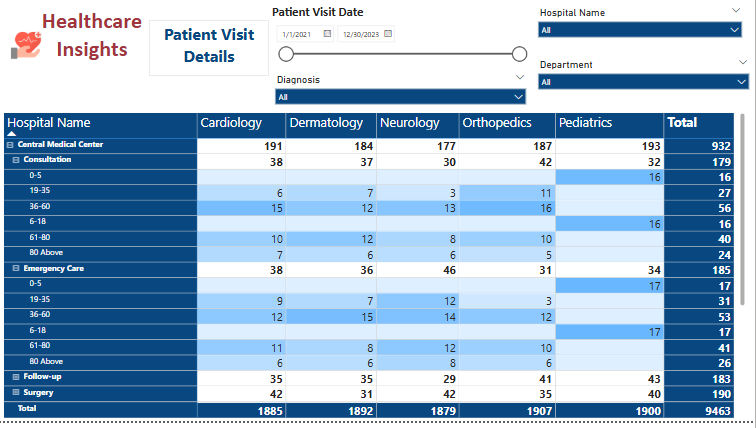

What the dashboard file says about the page in this screenshot:
{"tool":"powerbi","page":{"name":"Detail Report","canvas":[1280,720],"ordinal":2},"visuals":[{"type":"textbox","box":[70.6,20.2,191.5,136.1],"z":0},{"type":"image","box":[0,37,112.5,104.1],"z":1000},{"type":"textbox","box":[262.6,46.3,200.8,94.6],"z":2000},{"type":"slicer","fields":{"Values":["Healthcare data.department"]},"box":[905.4,105.8,374.6,85.7],"z":3000},{"type":"slicer","fields":{"Values":["Healthcare data.Hospital Name"]},"box":[905.5,19.3,363,86.9],"z":4000},{"type":"pivotTable","fields":{"Rows":["Healthcare data.Hospital Name","Healthcare data.service_provided","Healthcare data.Age group"],"Values":["CountNonNull(Healthcare data.patient_id)"],"Columns":["Healthcare data.department"]},"box":[13.4,198.2,1254.8,522.4],"z":5000},{"type":"slicer","fields":{"Values":["Healthcare data.Diagnosis Name"]},"box":[463.6,131,441.8,67.2],"z":6000},{"type":"slicer","title":"Patient Visit Date","fields":{"Values":["Healthcare data.Patient Visit Date"]},"box":[463.6,20.2,441.8,110.9],"z":7000}]}

Visuals, with their boxes in screenshot pixels (x1, y1, x2, y2), scaled from the page's 1280x720 canvas onto the 756x428 screenshot:
textbox: detection(42, 12, 155, 93)
image: detection(0, 22, 66, 84)
textbox: detection(155, 28, 274, 84)
slicer - Healthcare data.department: detection(535, 63, 755, 114)
slicer - Healthcare data.Hospital Name: detection(535, 11, 749, 63)
pivotTable - Healthcare data.Hospital Name x Healthcare data.service_provided: detection(8, 118, 749, 427)
slicer - Healthcare data.Diagnosis Name: detection(274, 78, 535, 118)
"Patient Visit Date" slicer: detection(274, 12, 535, 78)
